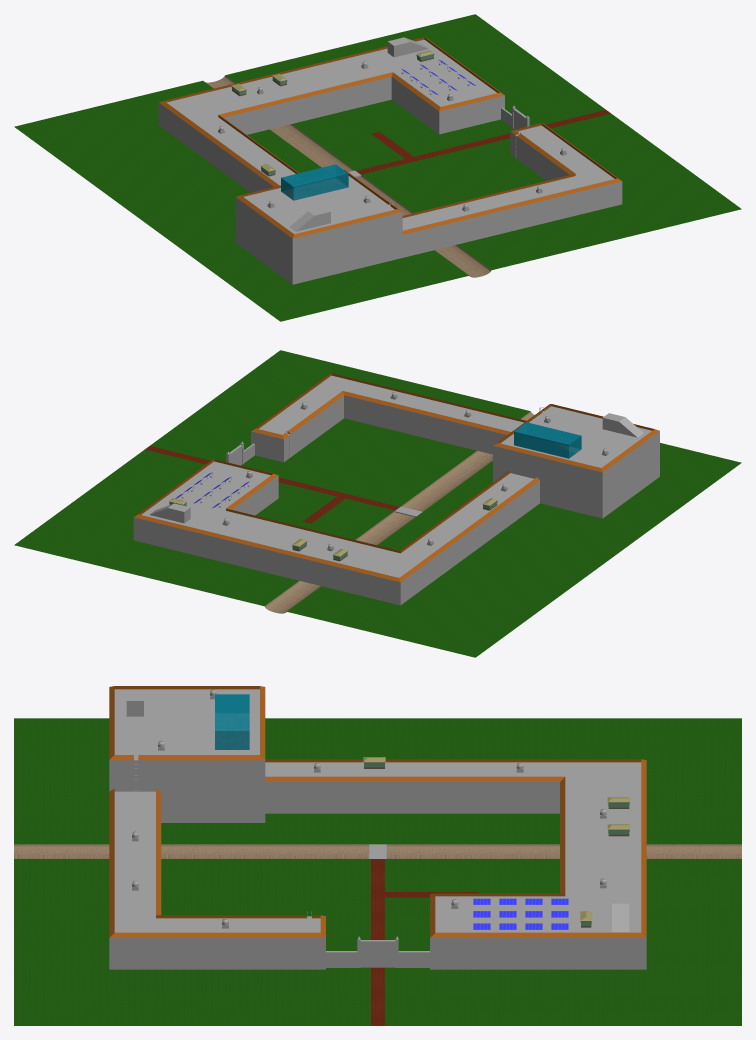
The model's file is courtyard.fbx.
3 views of the same model, one above another, from view 1: azimuth 30°, elevation 25°; view 2: azimuth 150°, elevation 25°; view 3: azimuth 270°, elevation 25° (orthographic). The views are drawn at different scales.
Parts seen in each view (by area): view 1: polySurface157, polySurface150, polySurface152, polySurface153, polySurface163, polySurface151, pCube37, polySurface146, polySurface162, polySurface159, polySurface160; view 2: polySurface157, polySurface150, polySurface152, polySurface153, polySurface163, polySurface151, pCube37, polySurface146, polySurface159, polySurface160, polySurface162; view 3: polySurface157, polySurface150, polySurface152, polySurface153, polySurface151, polySurface163, polySurface146, polySurface159, polySurface162, pCube37, polySurface160, pCube6.
Part boxes in pixels (<box>): polySurface157: <box>158,39,622,284</box>; polySurface150: <box>14,80,468,321</box>; polySurface152: <box>361,113,741,270</box>; polySurface153: <box>225,14,605,170</box>; polySurface163: <box>159,37,504,186</box>; polySurface151: <box>206,75,491,277</box>; pCube37: <box>281,164,348,200</box>; polySurface146: <box>356,110,610,174</box>; polySurface162: <box>402,123,621,234</box>; polySurface159: <box>236,170,402,238</box>; polySurface160: <box>402,133,575,217</box>; polySurface157: <box>133,375,659,605</box>; polySurface150: <box>287,443,741,657</box>; polySurface152: <box>150,350,530,506</box>; polySurface153: <box>14,449,394,606</box>; polySurface163: <box>134,459,539,582</box>; polySurface151: <box>264,411,534,613</box>; pCube37: <box>514,422,581,458</box>; polySurface146: <box>145,446,399,523</box>; polySurface159: <box>493,404,659,472</box>; polySurface160: <box>287,391,510,434</box>; polySurface162: <box>251,373,526,439</box>; polySurface157: <box>109,689,646,969</box>; polySurface150: <box>14,718,741,844</box>; polySurface152: <box>14,859,370,1025</box>; polySurface153: <box>385,859,741,1025</box>; polySurface151: <box>14,844,741,858</box>; polySurface163: <box>265,759,646,937</box>; polySurface146: <box>371,859,478,1025</box>; polySurface159: <box>109,686,265,760</box>; polySurface162: <box>109,788,325,937</box>; pCube37: <box>215,694,249,749</box>; polySurface160: <box>156,788,306,918</box>; pCube6: <box>360,944,395,967</box>.
Bounding box in the file's own units: 420 × 55.31 × 420.
Materials: 10 (4 with a texture image).
